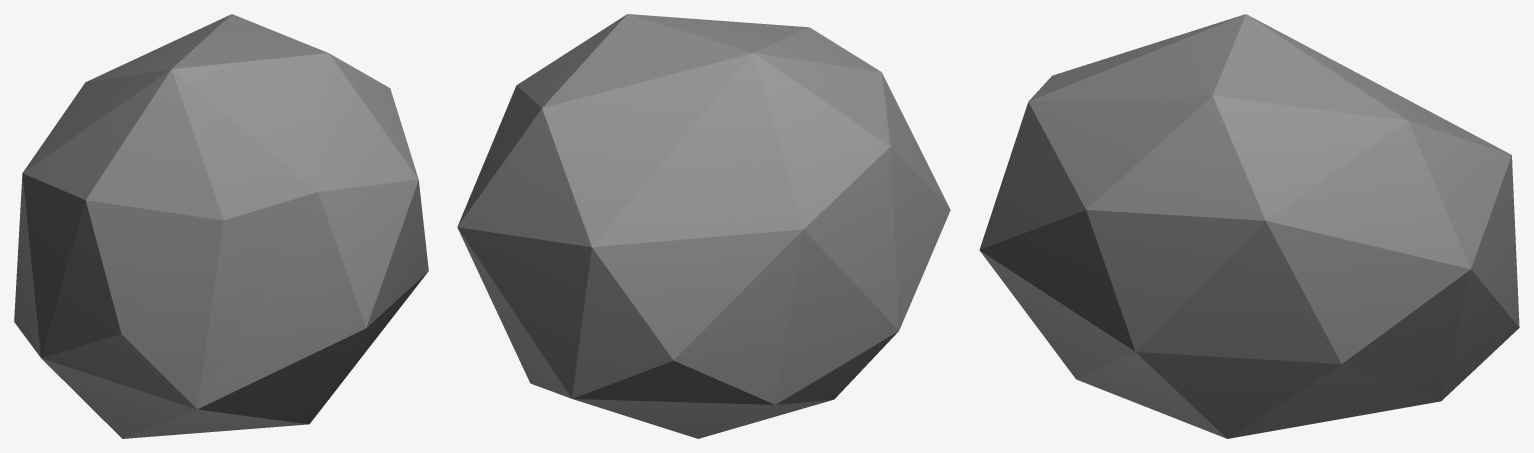
The model's file is Rock_Small_10.fbx.
3 views of the same model, side by side, from view 1: azimuth 30°, elevation 25°; view 2: azimuth 150°, elevation 25°; view 3: azimuth 270°, elevation 25° (orthographic). The views are drawn at different scales.
Parts seen in each view (by area): view 1: Rock_Small_10; view 2: Rock_Small_10; view 3: Rock_Small_10.
Part boxes in pixels (<box>): Rock_Small_10: <box>14,14,428,438</box>; Rock_Small_10: <box>457,14,950,438</box>; Rock_Small_10: <box>979,14,1519,438</box>.
Size of the model in its own units: 88.17 by 82.57 by 104.
